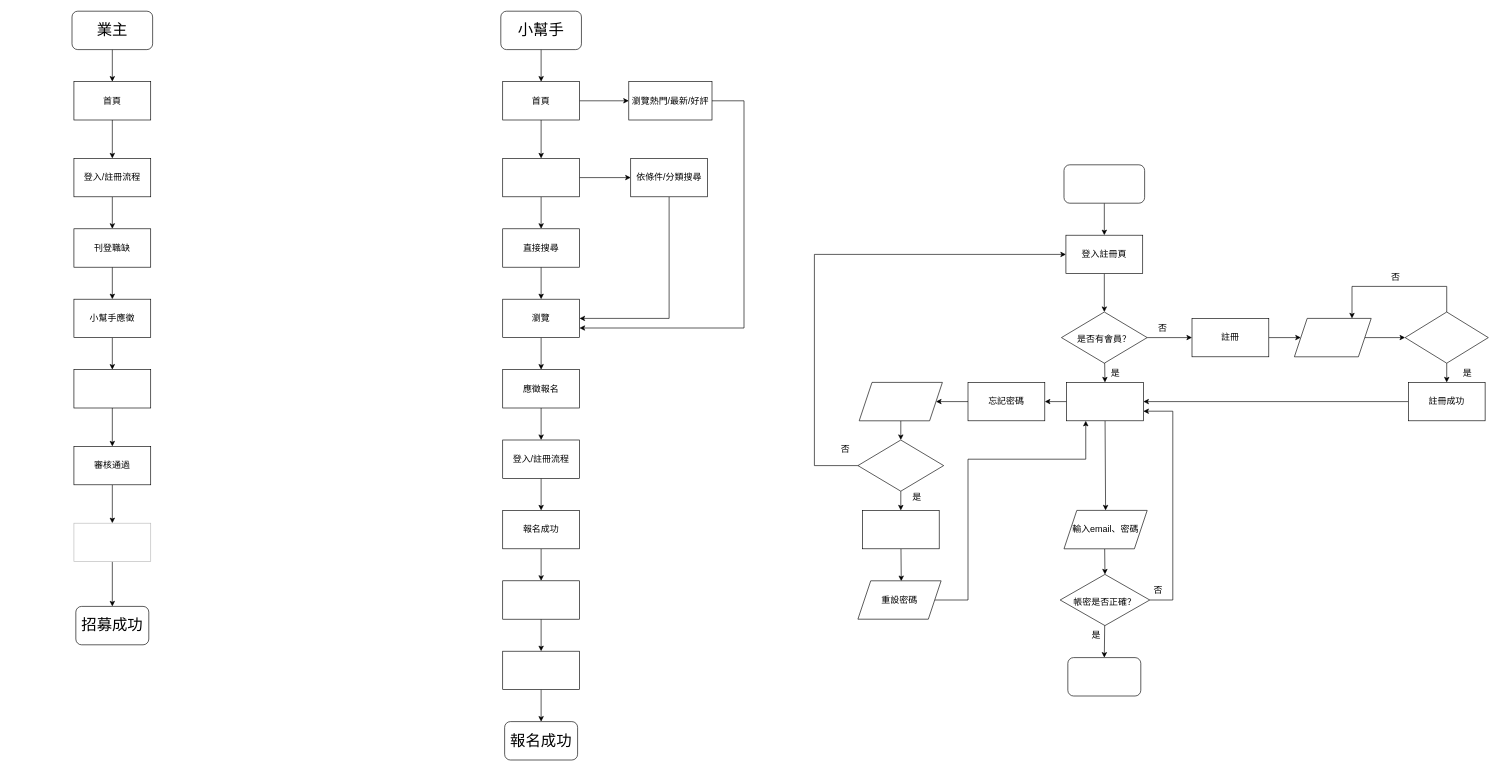
The diagram is 1500 pixels wide and 771 high, and some of its shapes have lost their labels. The shapes that lost their labels are listed below. From the top down, each one's box as (x1, y1, x2, y2) in pixels, then its label:
(502, 158, 580, 197): 搜尋
(1063, 164, 1145, 203): 登入/註冊
(1294, 318, 1371, 357): 填寫會員資料
(1404, 311, 1488, 363): 資料是否正確？
(73, 369, 151, 408): 查詢有誰報名
(859, 382, 942, 421): 填寫會員email
(1066, 382, 1143, 421): 登入
(857, 439, 944, 491): 是否有此會員？
(73, 523, 151, 562): 通知使用者
(862, 510, 939, 549): 寄發email重設信
(502, 580, 580, 619): 查詢報名狀態
(502, 651, 580, 690): 業主審核流程
(1067, 657, 1141, 696): 登入成功
